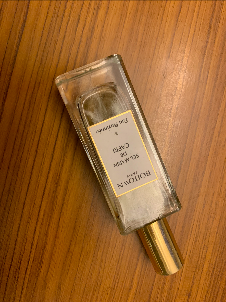Nonfood: (55, 59, 197, 289)
